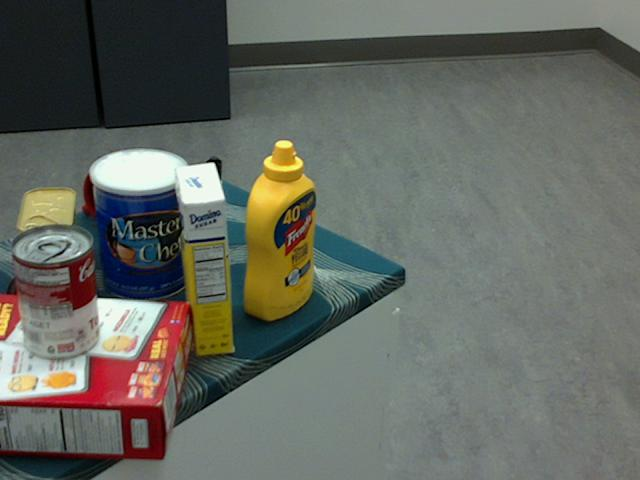cracker_box: (0, 291, 191, 460)
large_marker: (206, 155, 225, 249)
master_chef_can: (87, 148, 190, 302)
mug: (81, 149, 173, 234)
mustard_bottle: (242, 138, 316, 320)
potted_meat_can: (17, 185, 78, 293)
sugar_box: (175, 160, 233, 357)
tomato_soup_can: (9, 224, 98, 359)
tuna_fish_can: (5, 255, 98, 343)
